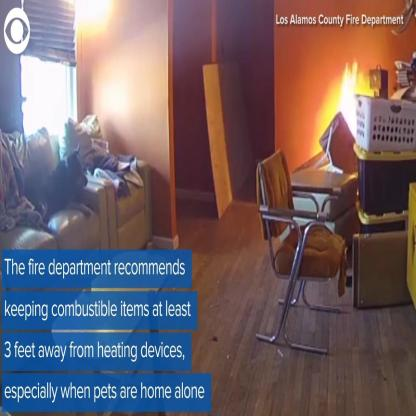fire: (336, 58, 372, 152)
